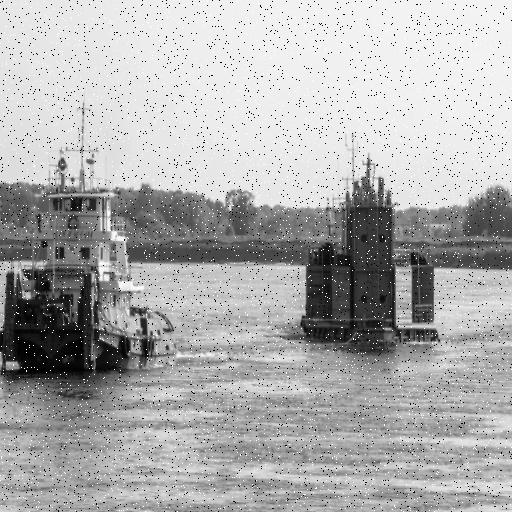tugboat: (1, 95, 184, 392)
